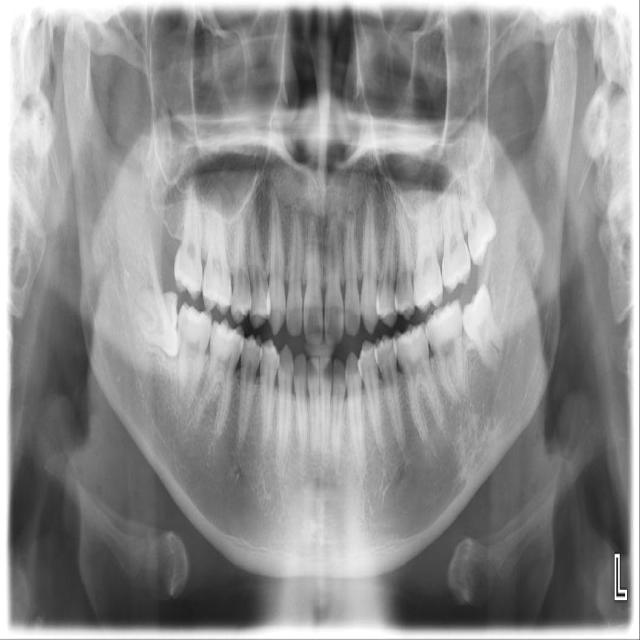impacted tooth: (461, 283, 509, 371), (127, 291, 180, 359)
